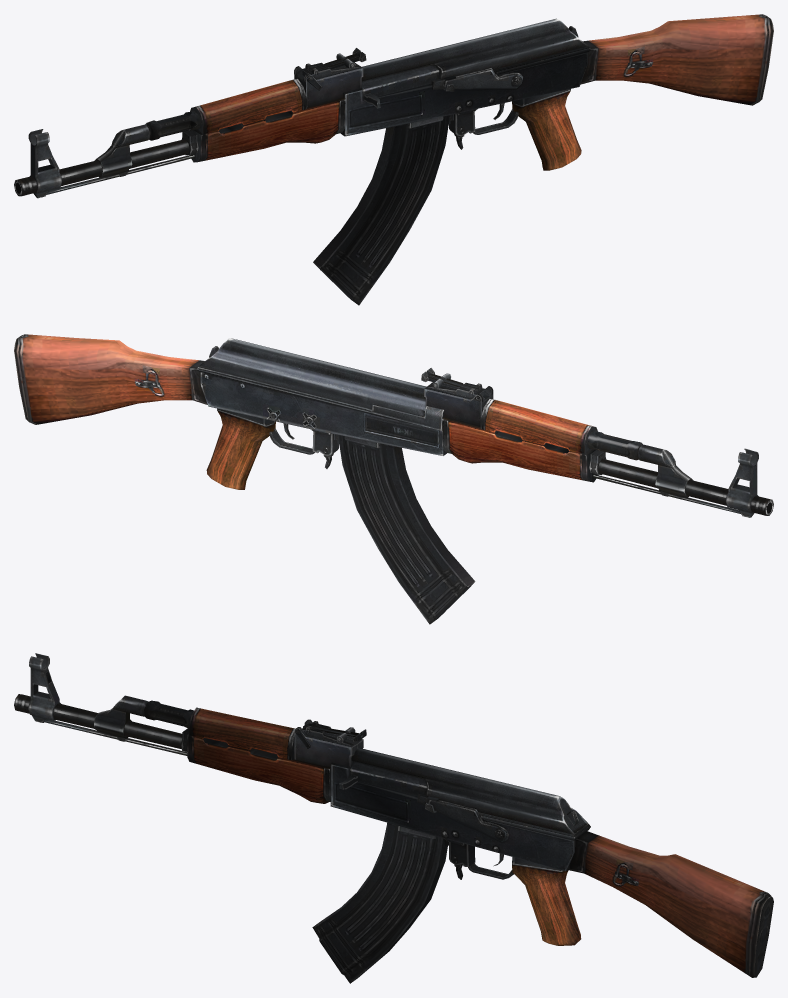
The picture shows the model from 3 angles, top to bottom: view 1: azimuth 30°, elevation 25°; view 2: azimuth 150°, elevation 25°; view 3: azimuth 330°, elevation 25°; orthographic projection.
Visible parts, largest first — view 1: Object_2; view 2: Object_2; view 3: Object_2.
Boxes of the visible parts, bbox=[...] form: Object_2: bbox=[14, 14, 773, 305]; Object_2: bbox=[14, 334, 773, 624]; Object_2: bbox=[14, 653, 773, 983].
Size of the model in its own units: 2.09 by 0.6633 by 0.1306.
1 material, 1 textured.
